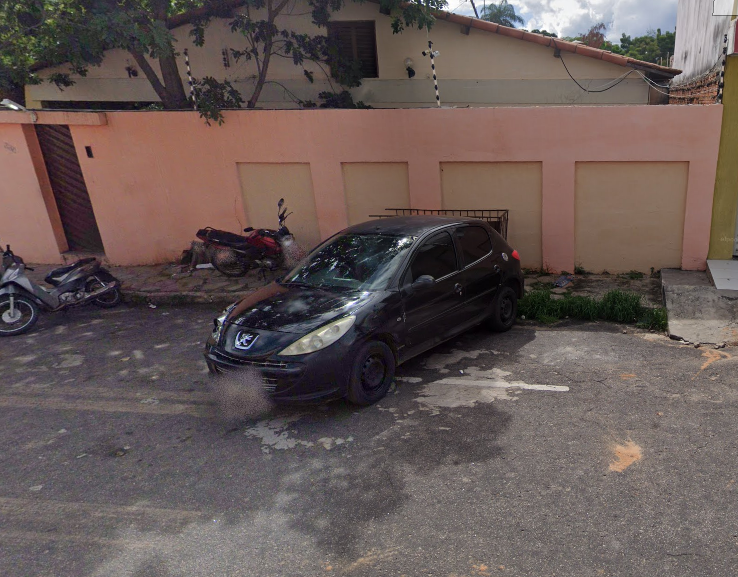car: (205, 216, 556, 407)
